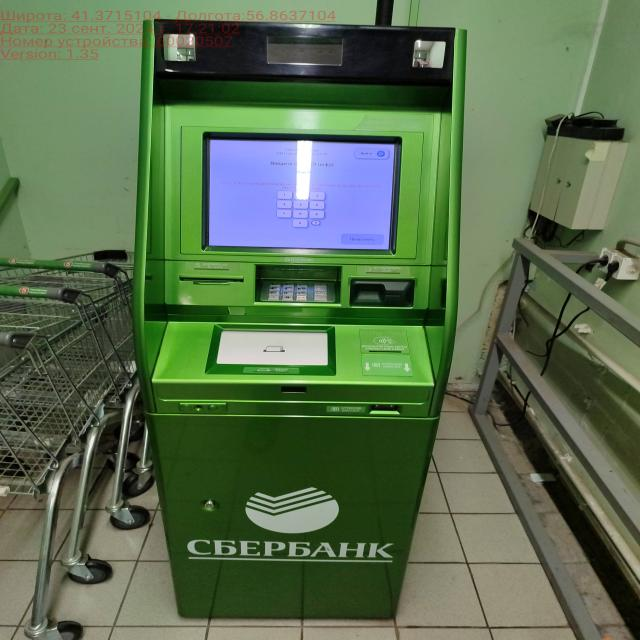bank: (139, 14, 466, 623)
